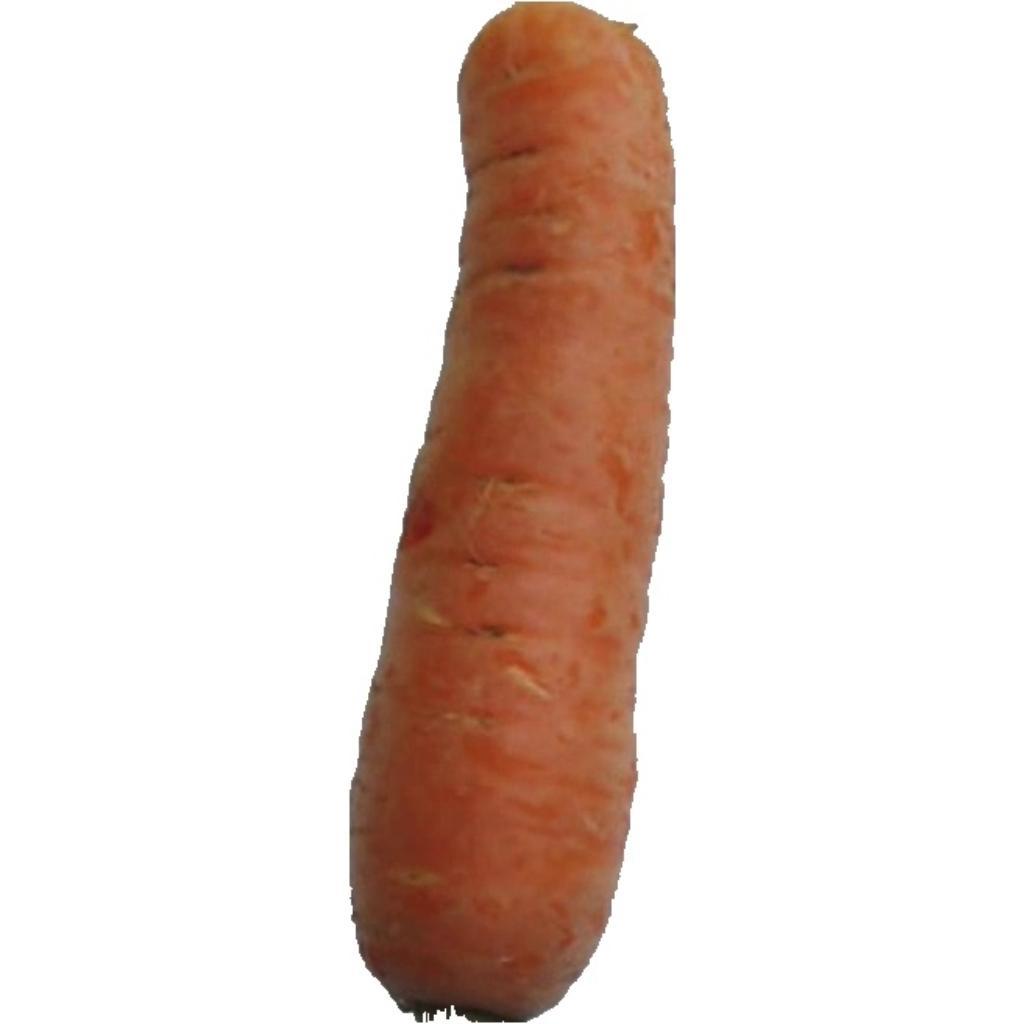carrot: (351, 4, 673, 1020)
